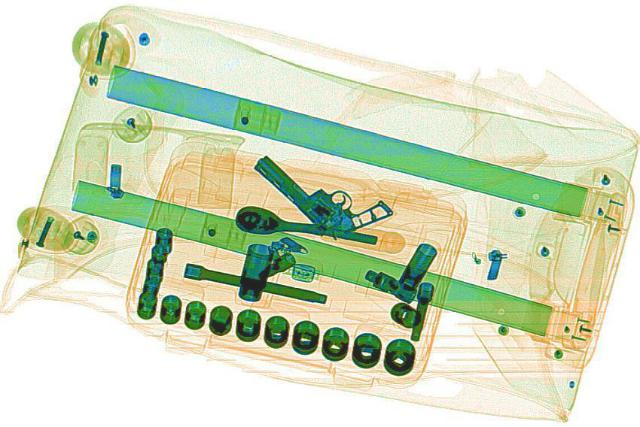Gun: (246, 136, 394, 239)
